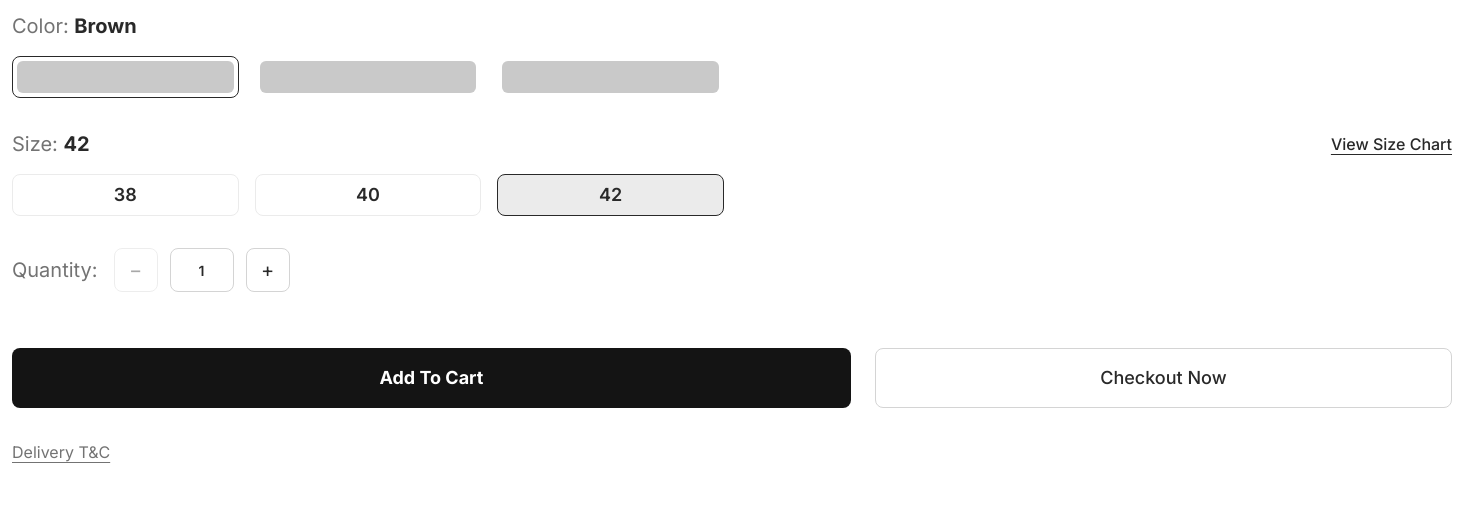
Test: PurchasePanel defensive states › explains instead of silently doing nothing when a complete selection has no variant
Click the button with test id "add-to-cart-button" at {"x": 431, "y": 378}, box [12,348,851,408]
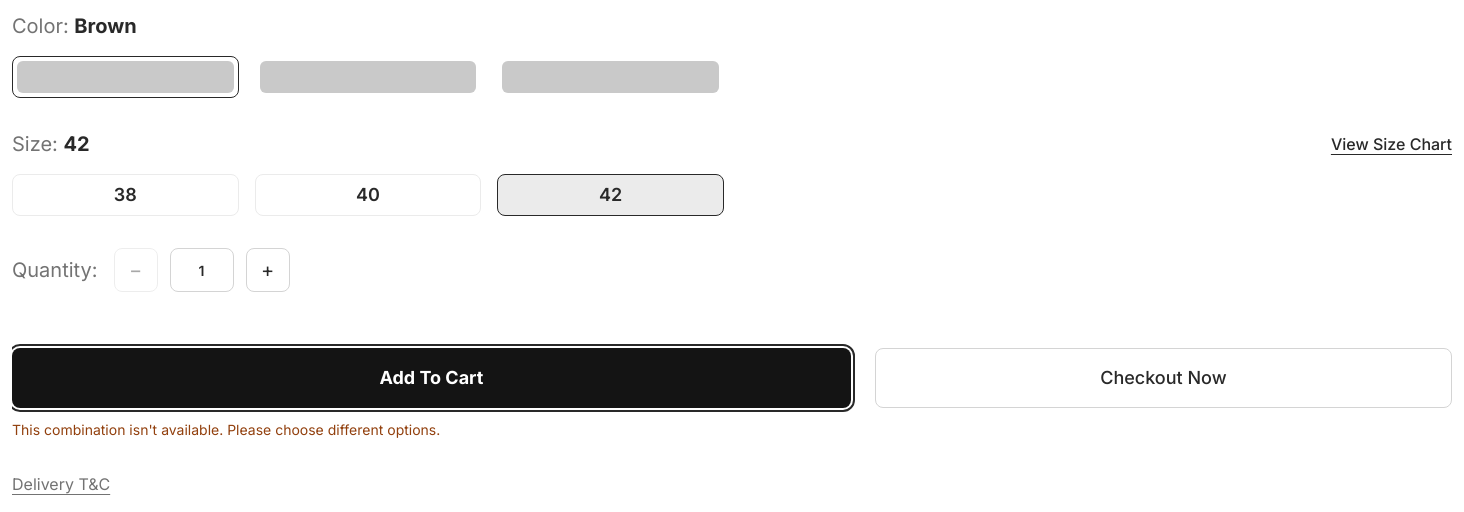
Result: the text with test id "add-to-cart-hint" reads "This combination isn't available. Please choose different options." at [12,421,440,438]
